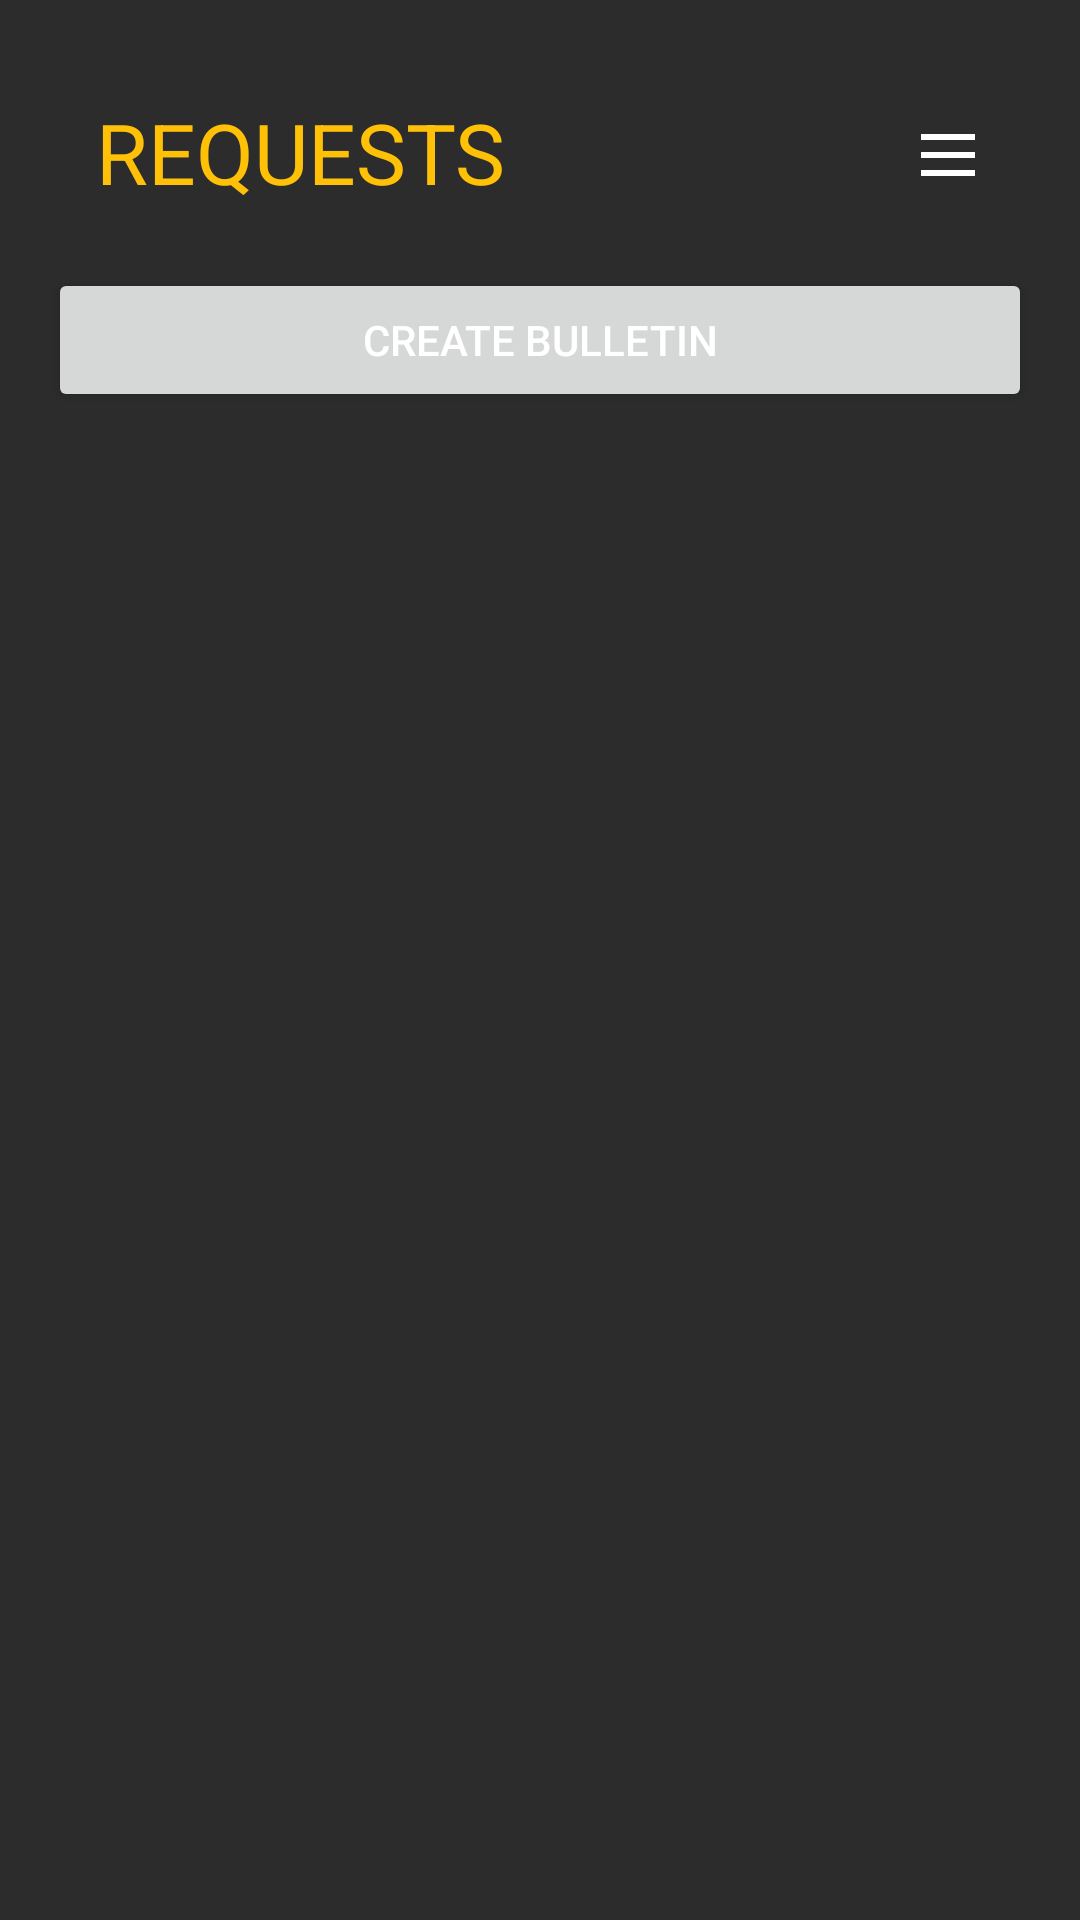

Named icons in this screenshot (1080px×1920px) and their bounding boxes, (left=x1, top=y1, right=x2, bottom=y2):
Открыть навигационное меню: (left=921, top=134, right=975, bottom=176)
